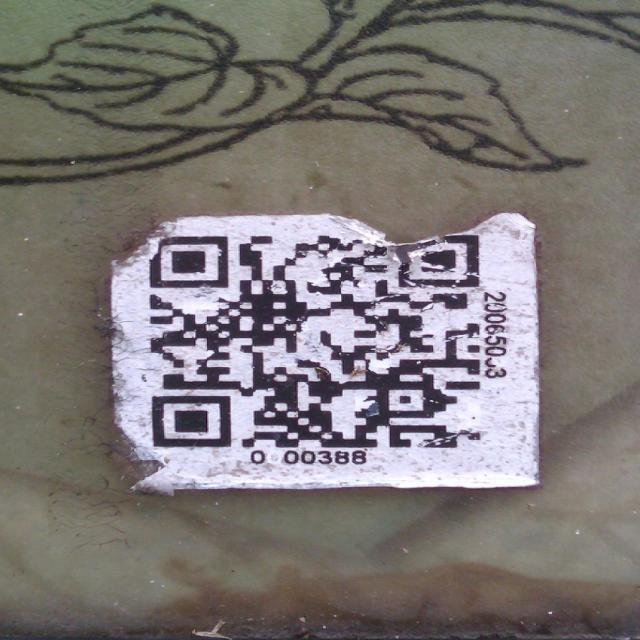qrcode: (150, 237, 480, 449)
